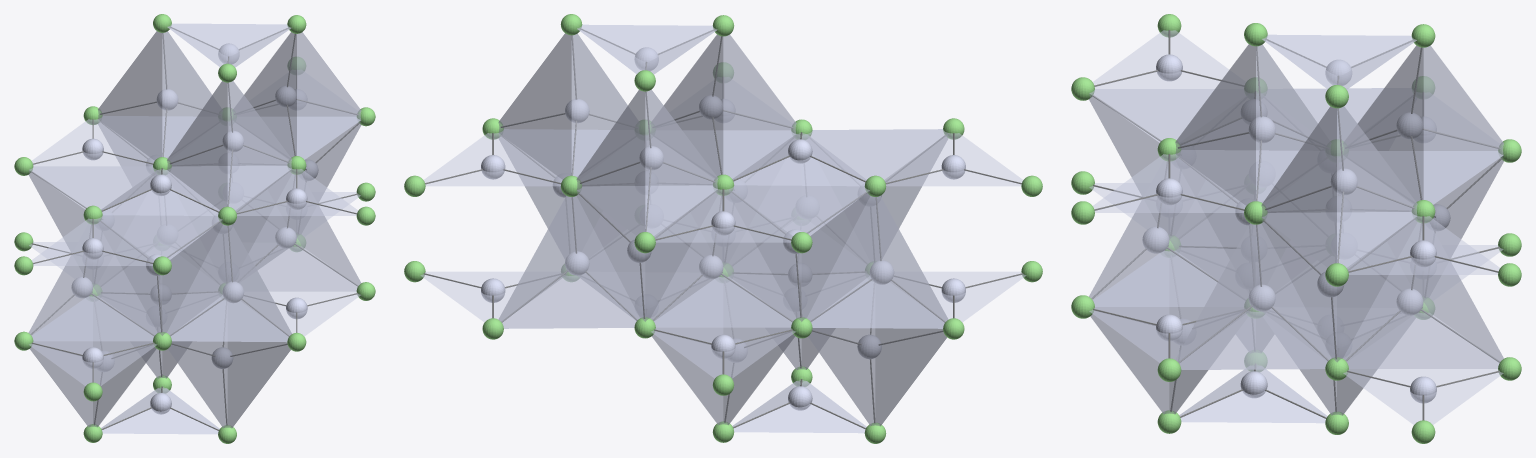
File: LaF3.fbx
3 renders of one model, left to right at view 1: azimuth 30°, elevation 25°; view 2: azimuth 150°, elevation 25°; view 3: azimuth 270°, elevation 25°, orthographic. The views are drawn at different scales.
Visible parts, largest first — view 1: Shape_IndexedFaceSet.003, Shape_IndexedFaceSet.011, Shape_IndexedFaceSet.035, Shape_IndexedFaceSet.028, Shape_IndexedFaceSet.059, Shape_IndexedFaceSet.051, Shape_IndexedFaceSet.044, Shape_IndexedFaceSet.052, Shape_IndexedFaceSet.060, Shape_IndexedFaceSet.045, Shape_IndexedFaceSet.063, Shape_IndexedFaceSet.053 (+68 smaller); view 2: Shape_IndexedFaceSet.009, Shape_IndexedFaceSet.025, Shape_IndexedFaceSet.017, Shape_IndexedFaceSet.038, Shape_IndexedFaceSet.050, Shape_IndexedFaceSet.042, Shape_IndexedFaceSet.061, Shape_IndexedFaceSet.045, Shape_IndexedFaceSet.053, Shape_IndexedFaceSet.052, Shape_IndexedFaceSet.063, Shape_IndexedFaceSet.047 (+50 smaller); view 3: Shape_IndexedFaceSet.032, Shape_IndexedFaceSet.024, Shape_IndexedFaceSet, Shape_IndexedFaceSet.055, Shape_IndexedFaceSet.063, Shape_IndexedFaceSet.047, Shape_IndexedFaceSet.052, Shape_IndexedFaceSet.045, Shape_IndexedFaceSet.060, Shape_IndexedFaceSet.053, Shape_IndexedFaceSet.031, Shape_IndexedFaceSet.056 (+80 smaller).
Part boxes in pixels (x1=…): Shape_IndexedFaceSet.003: x1=167, y1=225, x2=291, y2=342; Shape_IndexedFaceSet.011: x1=28, y1=224, x2=157, y2=341; Shape_IndexedFaceSet.035: x1=248, y1=174, x2=361, y2=291; Shape_IndexedFaceSet.028: x1=101, y1=215, x2=222, y2=332; Shape_IndexedFaceSet.059: x1=168, y1=341, x2=290, y2=428; Shape_IndexedFaceSet.051: x1=30, y1=341, x2=156, y2=427; Shape_IndexedFaceSet.044: x1=167, y1=81, x2=291, y2=165; Shape_IndexedFaceSet.052: x1=244, y1=32, x2=360, y2=116; Shape_IndexedFaceSet.060: x1=98, y1=31, x2=211, y2=116; Shape_IndexedFaceSet.045: x1=227, y1=81, x2=291, y2=210; Shape_IndexedFaceSet.063: x1=98, y1=31, x2=162, y2=160; Shape_IndexedFaceSet.053: x1=297, y1=32, x2=361, y2=159; Shape_IndexedFaceSet.009: x1=807, y1=196, x2=948, y2=328; Shape_IndexedFaceSet.025: x1=498, y1=196, x2=639, y2=328; Shape_IndexedFaceSet.017: x1=650, y1=195, x2=796, y2=327; Shape_IndexedFaceSet.038: x1=733, y1=185, x2=869, y2=317; Shape_IndexedFaceSet.050: x1=808, y1=328, x2=946, y2=426; Shape_IndexedFaceSet.042: x1=652, y1=328, x2=794, y2=424; Shape_IndexedFaceSet.061: x1=577, y1=90, x2=717, y2=185; Shape_IndexedFaceSet.045: x1=664, y1=35, x2=795, y2=129; Shape_IndexedFaceSet.053: x1=499, y1=34, x2=627, y2=129; Shape_IndexedFaceSet.052: x1=498, y1=33, x2=571, y2=179; Shape_IndexedFaceSet.063: x1=645, y1=89, x2=718, y2=235; Shape_IndexedFaceSet.047: x1=723, y1=34, x2=796, y2=178; Shape_IndexedFaceSet.032: x1=1175, y1=223, x2=1331, y2=369; Shape_IndexedFaceSet.024: x1=1343, y1=223, x2=1503, y2=368; Shape_IndexedFaceSet: x1=1089, y1=161, x2=1229, y2=306; Shape_IndexedFaceSet.055: x1=1262, y1=107, x2=1416, y2=212; Shape_IndexedFaceSet.063: x1=1358, y1=46, x2=1503, y2=150; Shape_IndexedFaceSet.047: x1=1176, y1=45, x2=1317, y2=150; Shape_IndexedFaceSet.052: x1=1337, y1=106, x2=1417, y2=267; Shape_IndexedFaceSet.045: x1=1175, y1=44, x2=1255, y2=205; Shape_IndexedFaceSet.060: x1=1423, y1=45, x2=1503, y2=204; Shape_IndexedFaceSet.053: x1=1261, y1=106, x2=1336, y2=267; Shape_IndexedFaceSet.031: x1=1089, y1=89, x2=1214, y2=176; Shape_IndexedFaceSet.056: x1=1090, y1=307, x2=1207, y2=414.
Bounding box in the file's own units: 1628 × 1164 × 1106.
